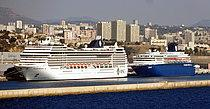Ship: (15, 40, 131, 82), (128, 43, 200, 81)
